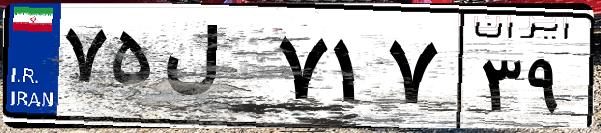1: (330, 28, 385, 110)
3: (475, 38, 525, 113)
5: (110, 28, 158, 98)
7: (270, 28, 330, 110), (385, 28, 445, 110), (57, 26, 110, 100)
9: (525, 38, 570, 115)
ل: (158, 20, 270, 120)
